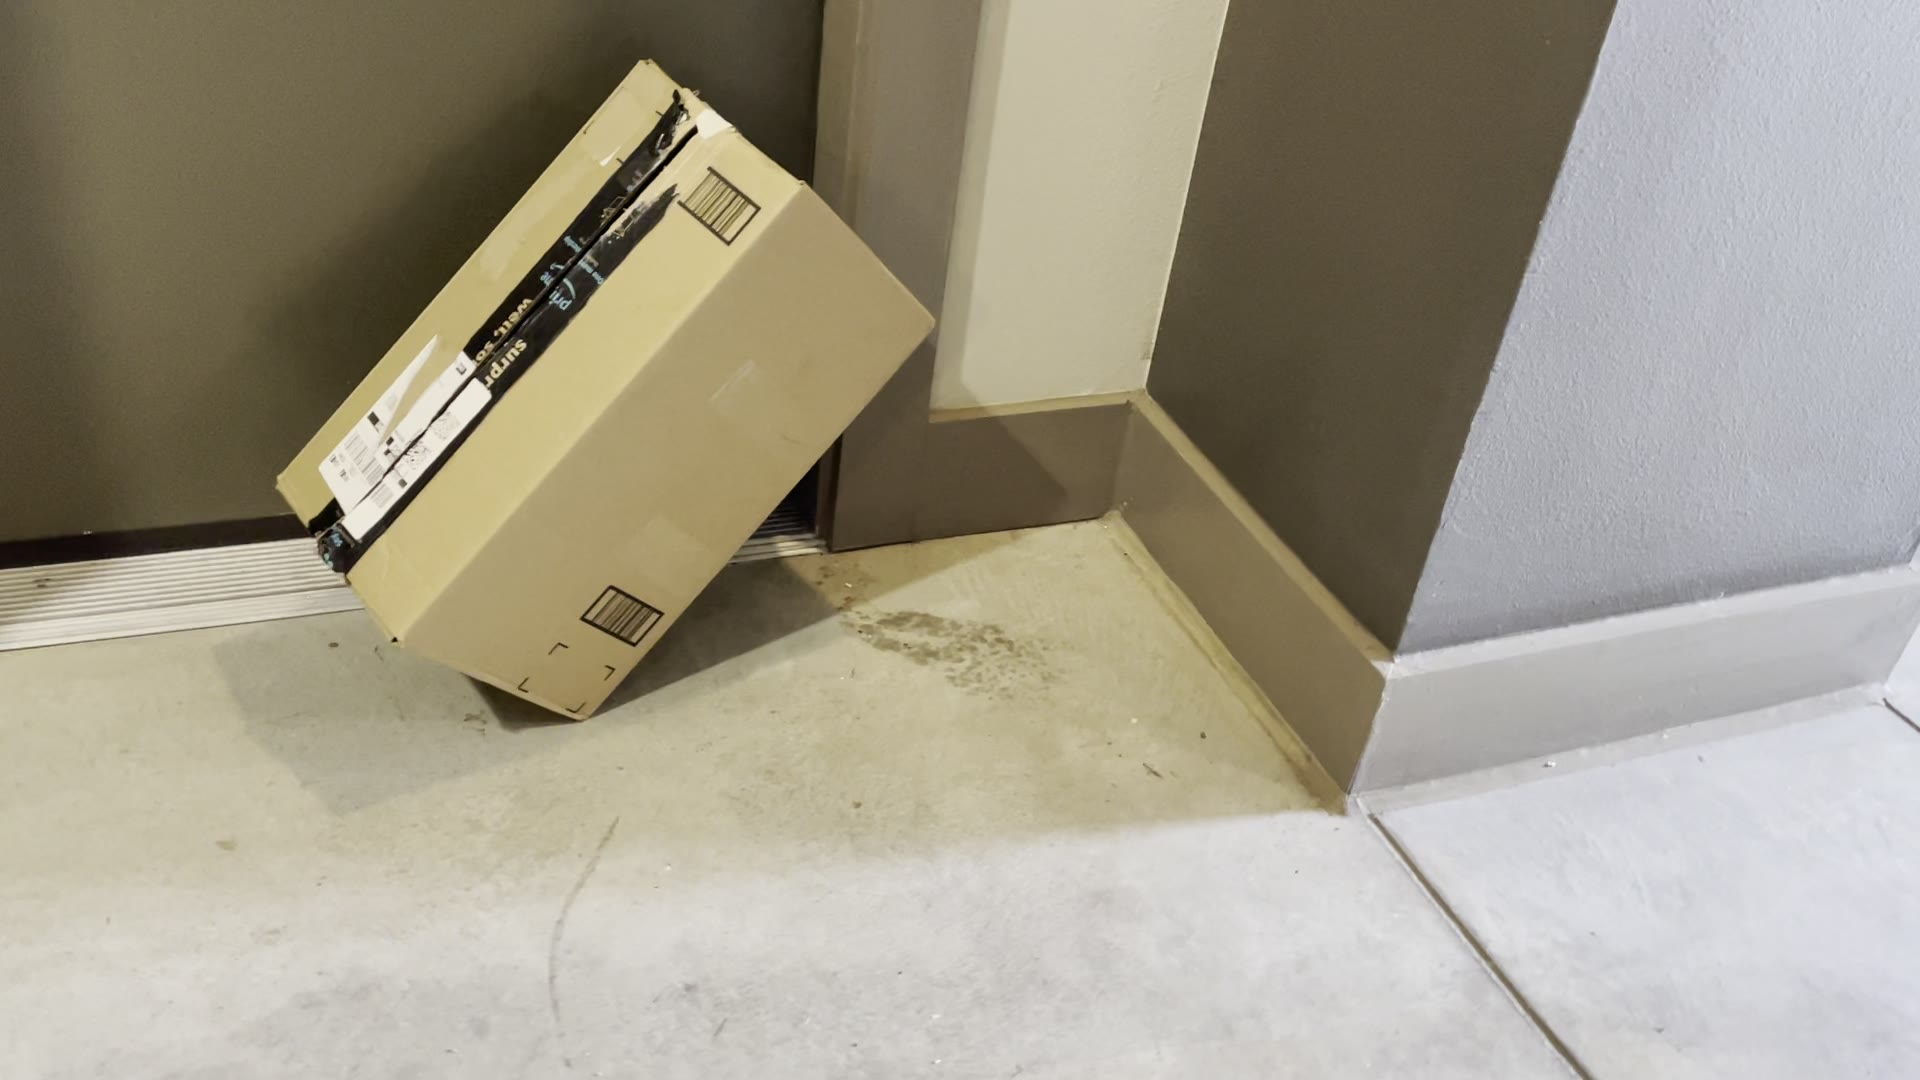box: (272, 36, 945, 738)
